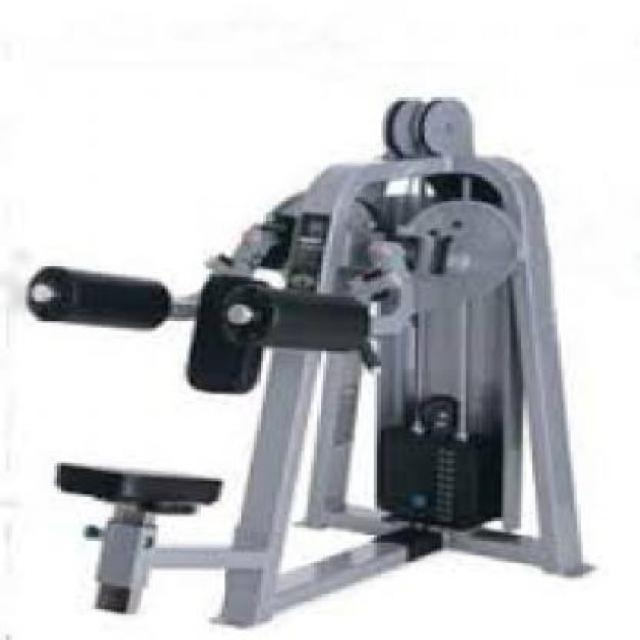lateral raises machine: (28, 97, 592, 631)
